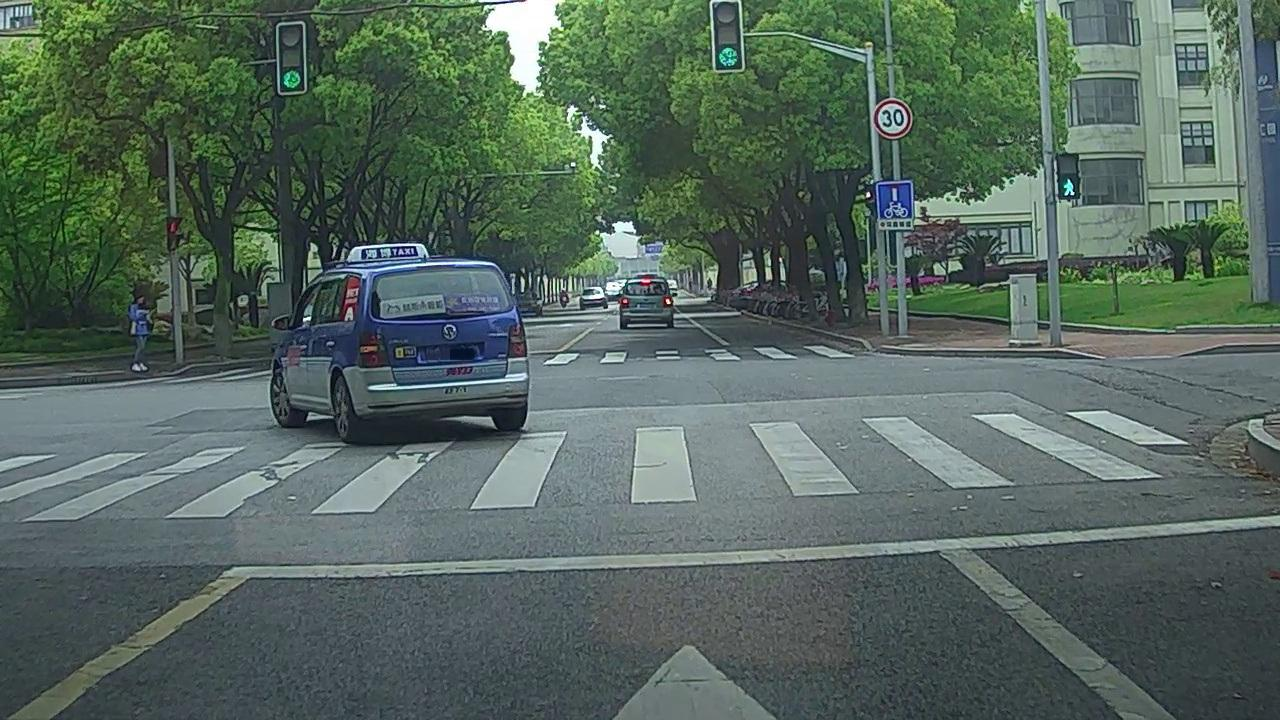traffic_light: (710, 1, 745, 70), (282, 24, 308, 93)
